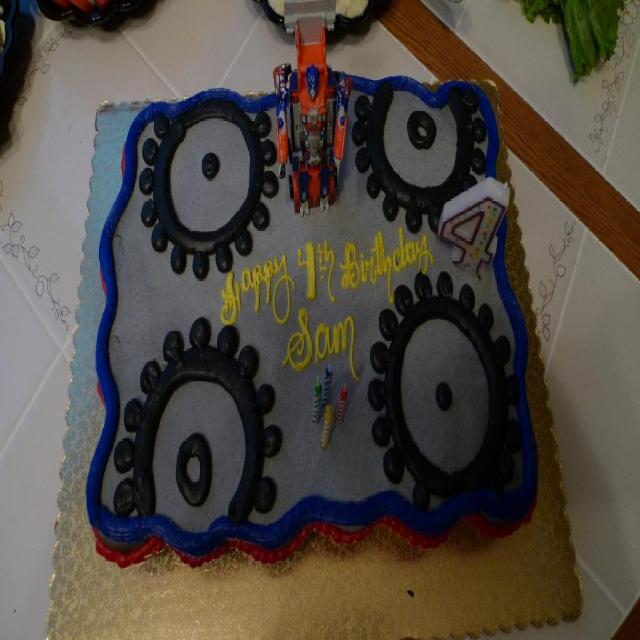Toy: (281, 22, 346, 208)
